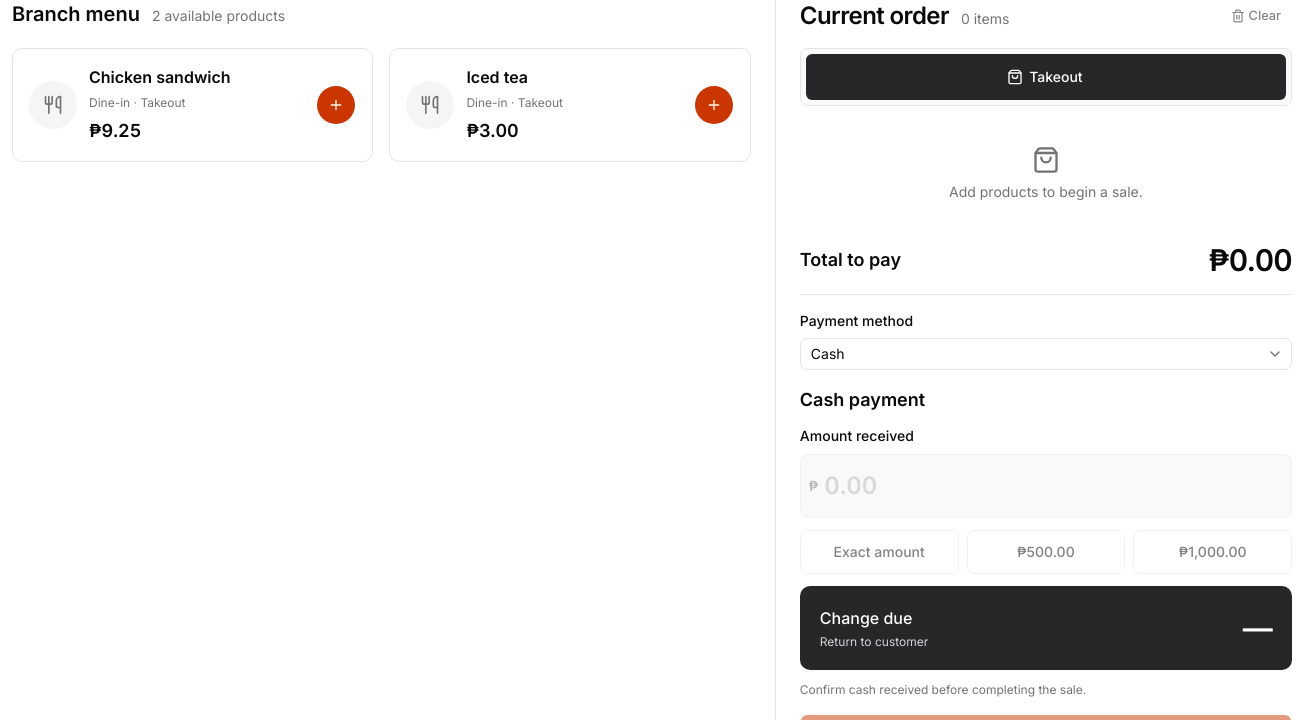
POS checkout › requires explicit price review after a revision conflict and sends the new revision with a new retry key
Later steps or results of the test are not shown.
Step 1. Click the button named "Add Chicken sandwich" → {"x": 336, "y": 105}, box [316,85,356,125]
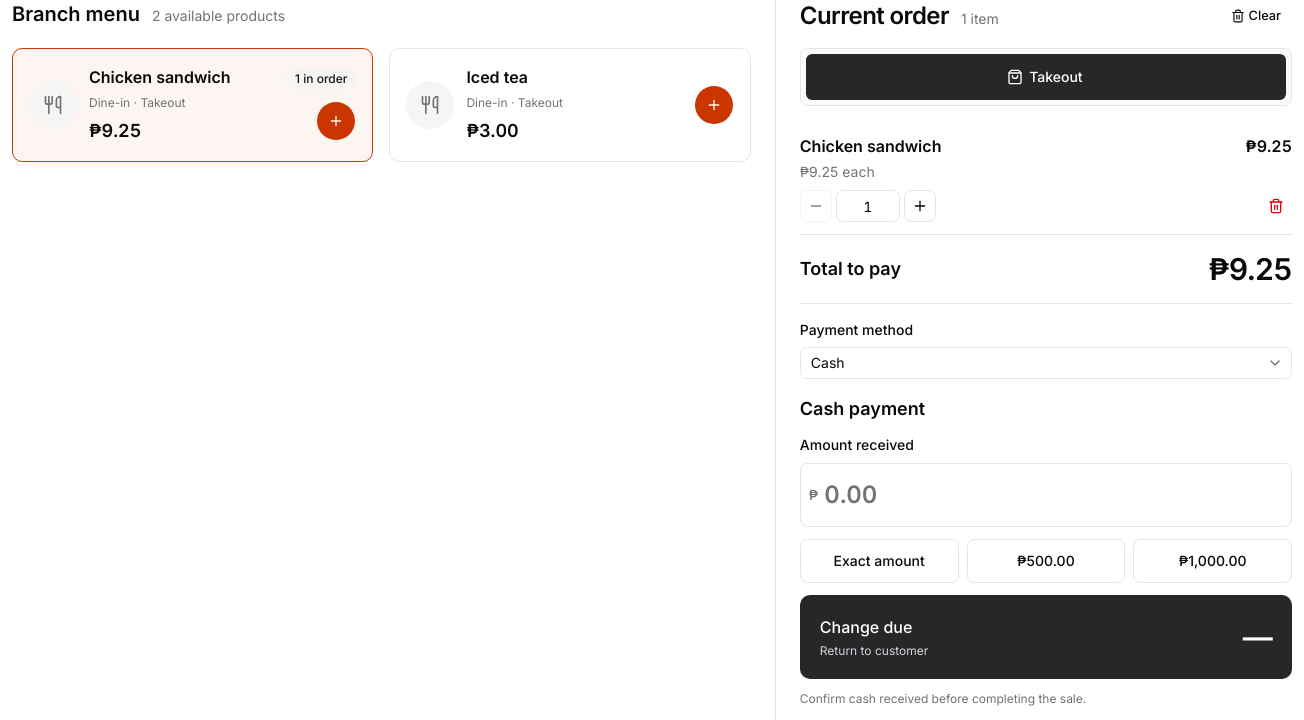
Step 2. Type "100" into the field labelled "Amount received" → {"x": 1055, "y": 494}, box [818,478,1291,510]
(page scrolled)
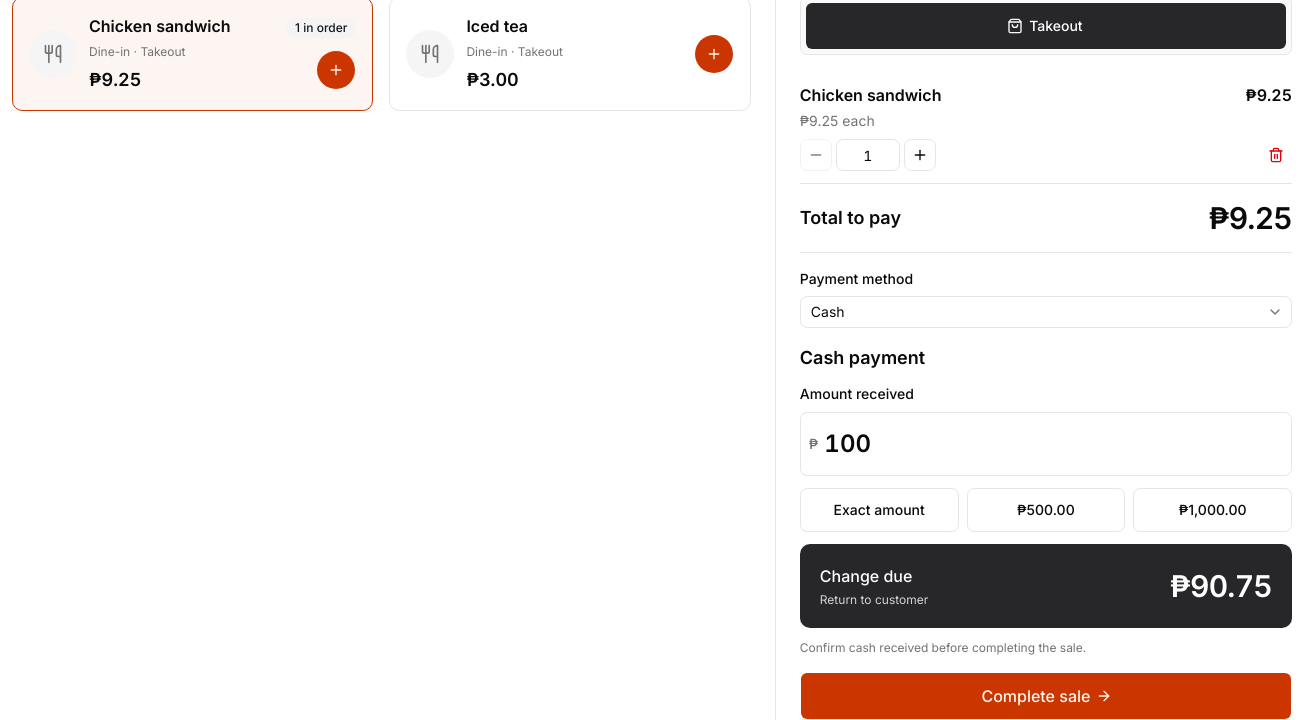
Step 3. Click the button "Complete sale" → {"x": 1046, "y": 696}, box [800,672,1292,719]
(page scrolled)
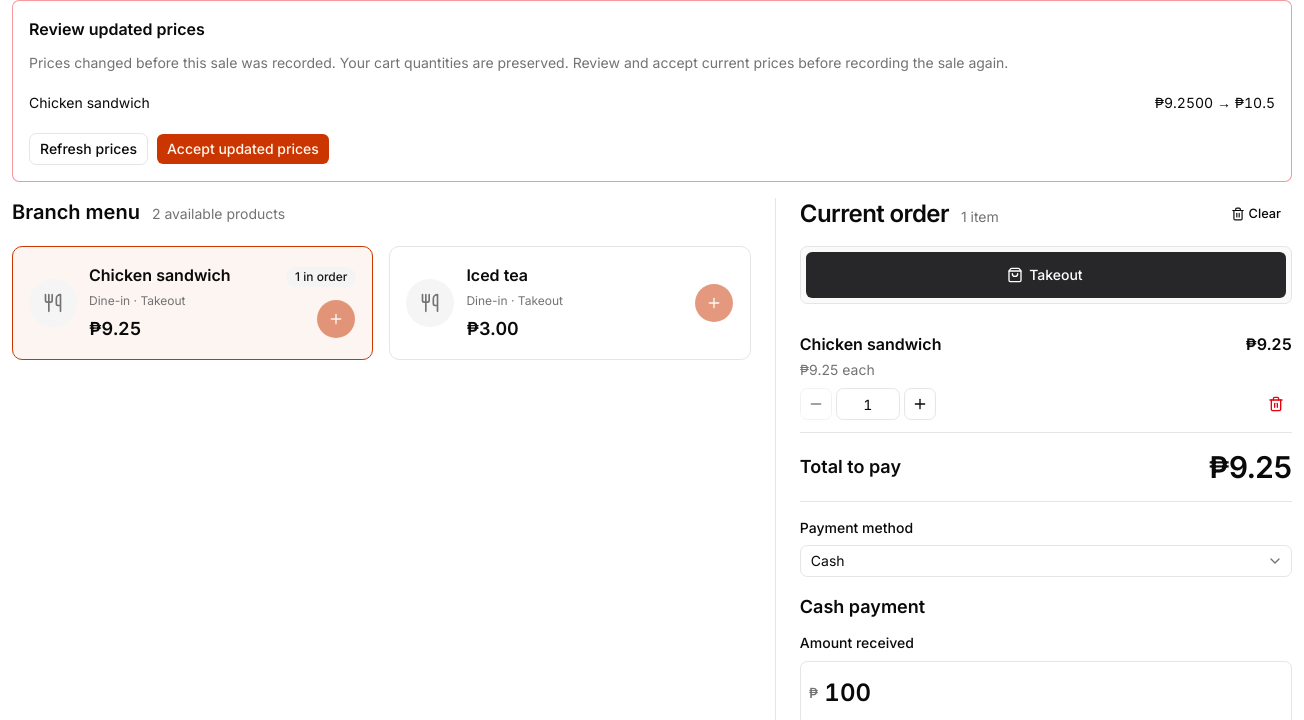
Result: the heading "Review updated prices" is shown at [29,19,205,39]
Result: the button "Accept updated prices" is enabled at [156,133,330,165]
